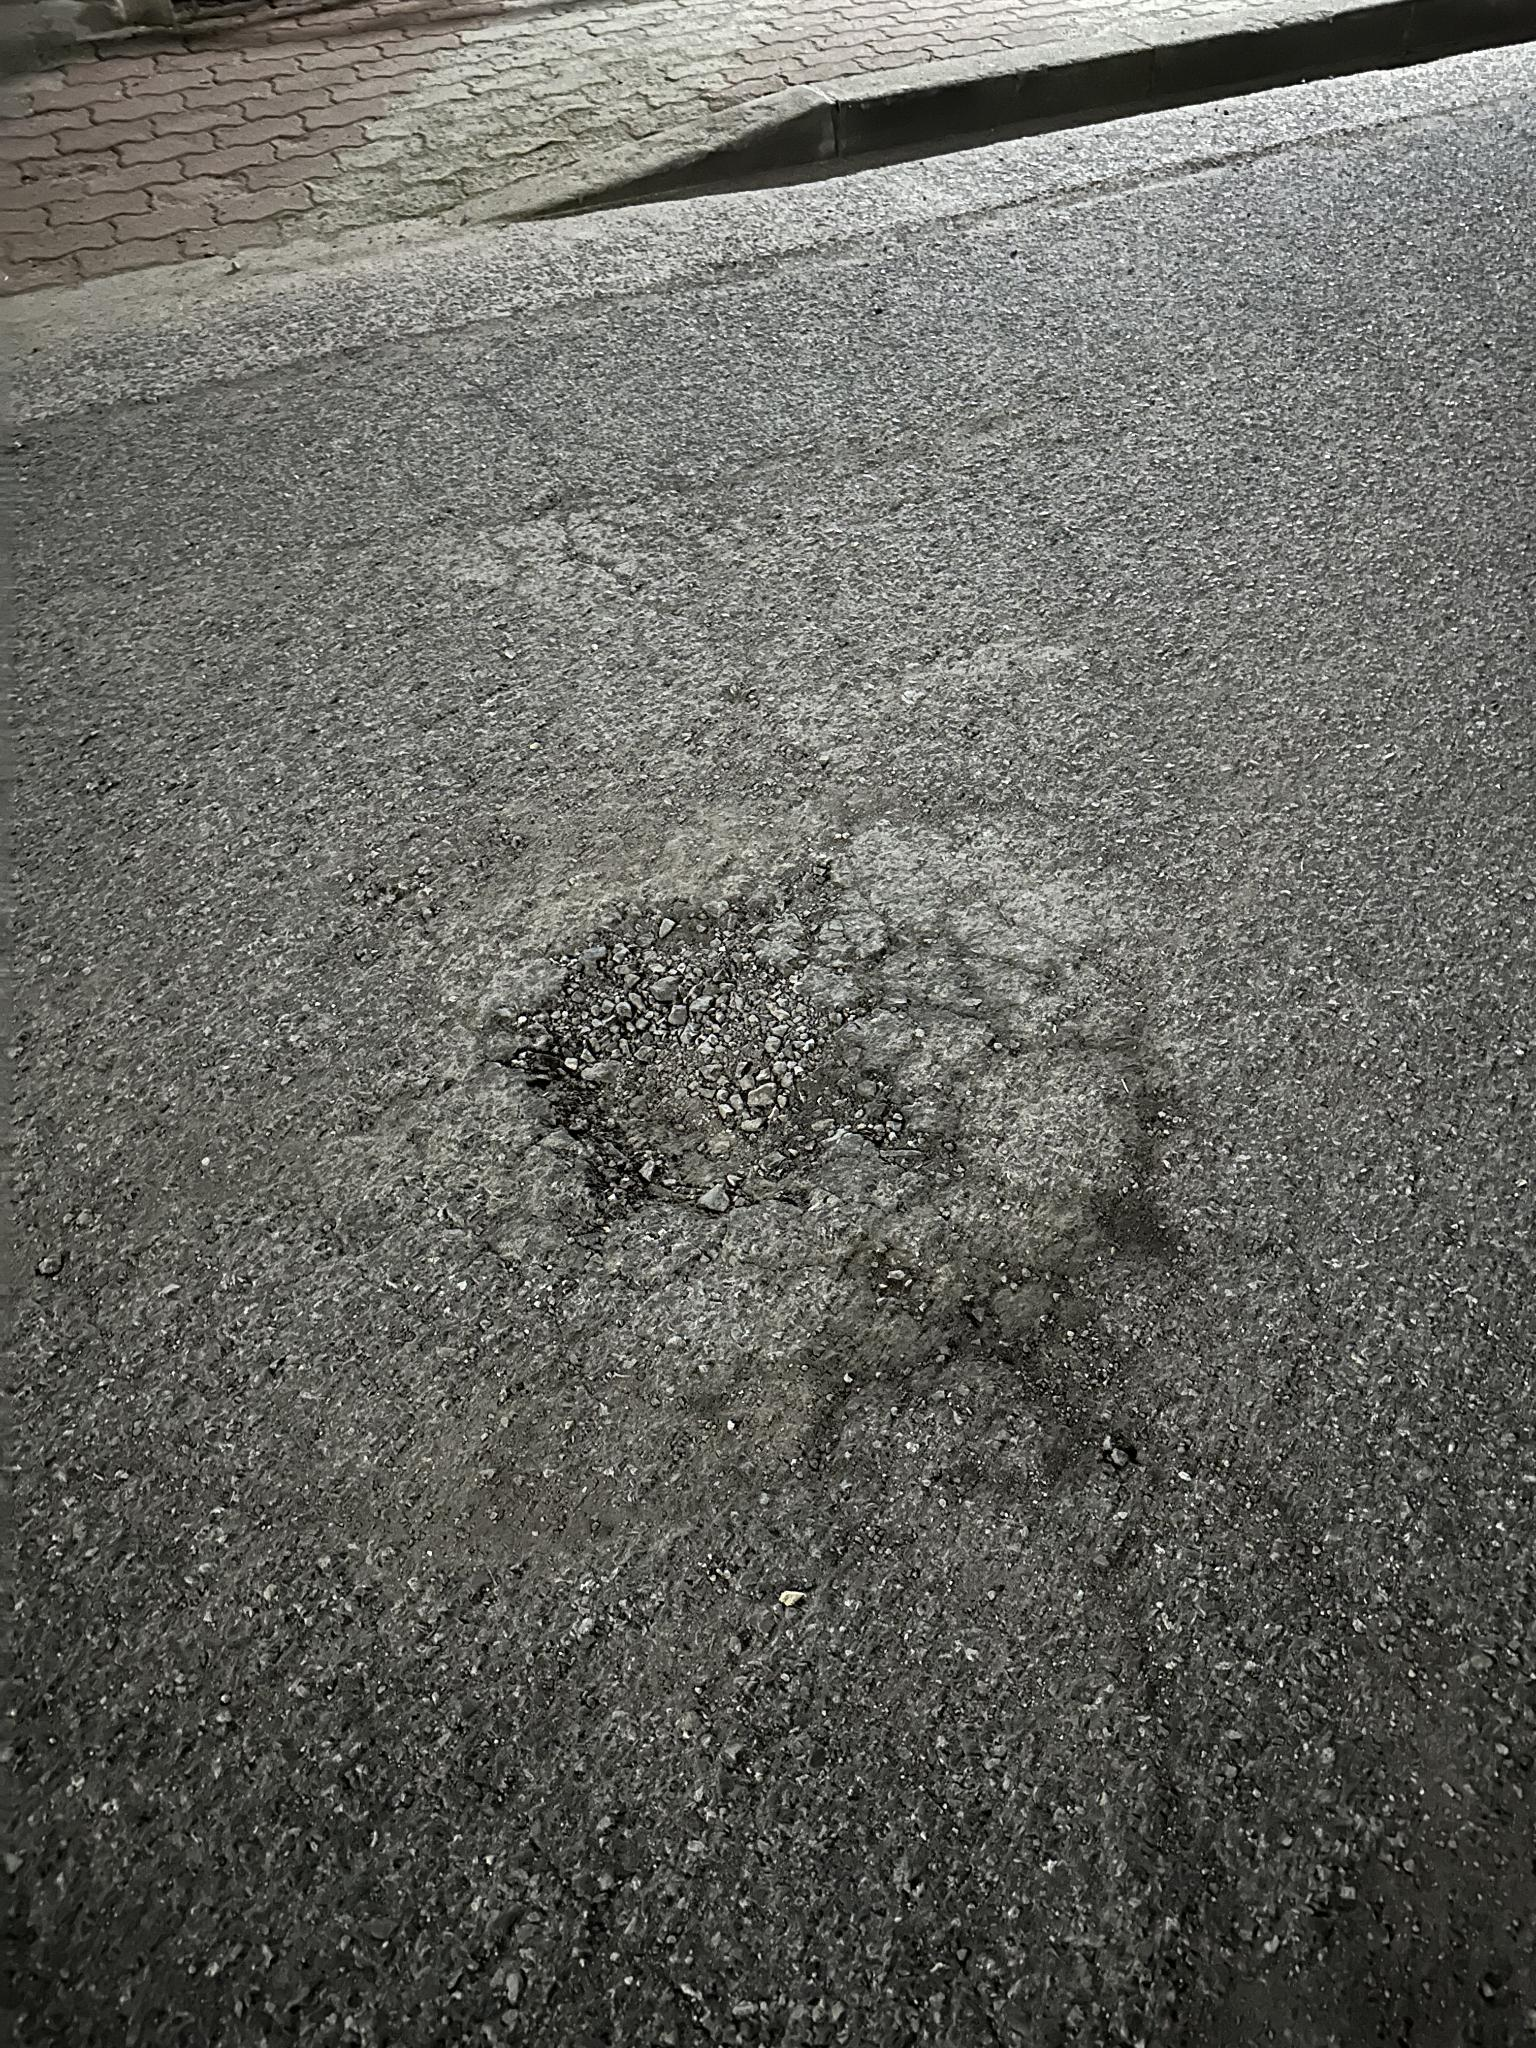pothole: (395, 764, 1252, 1330)
